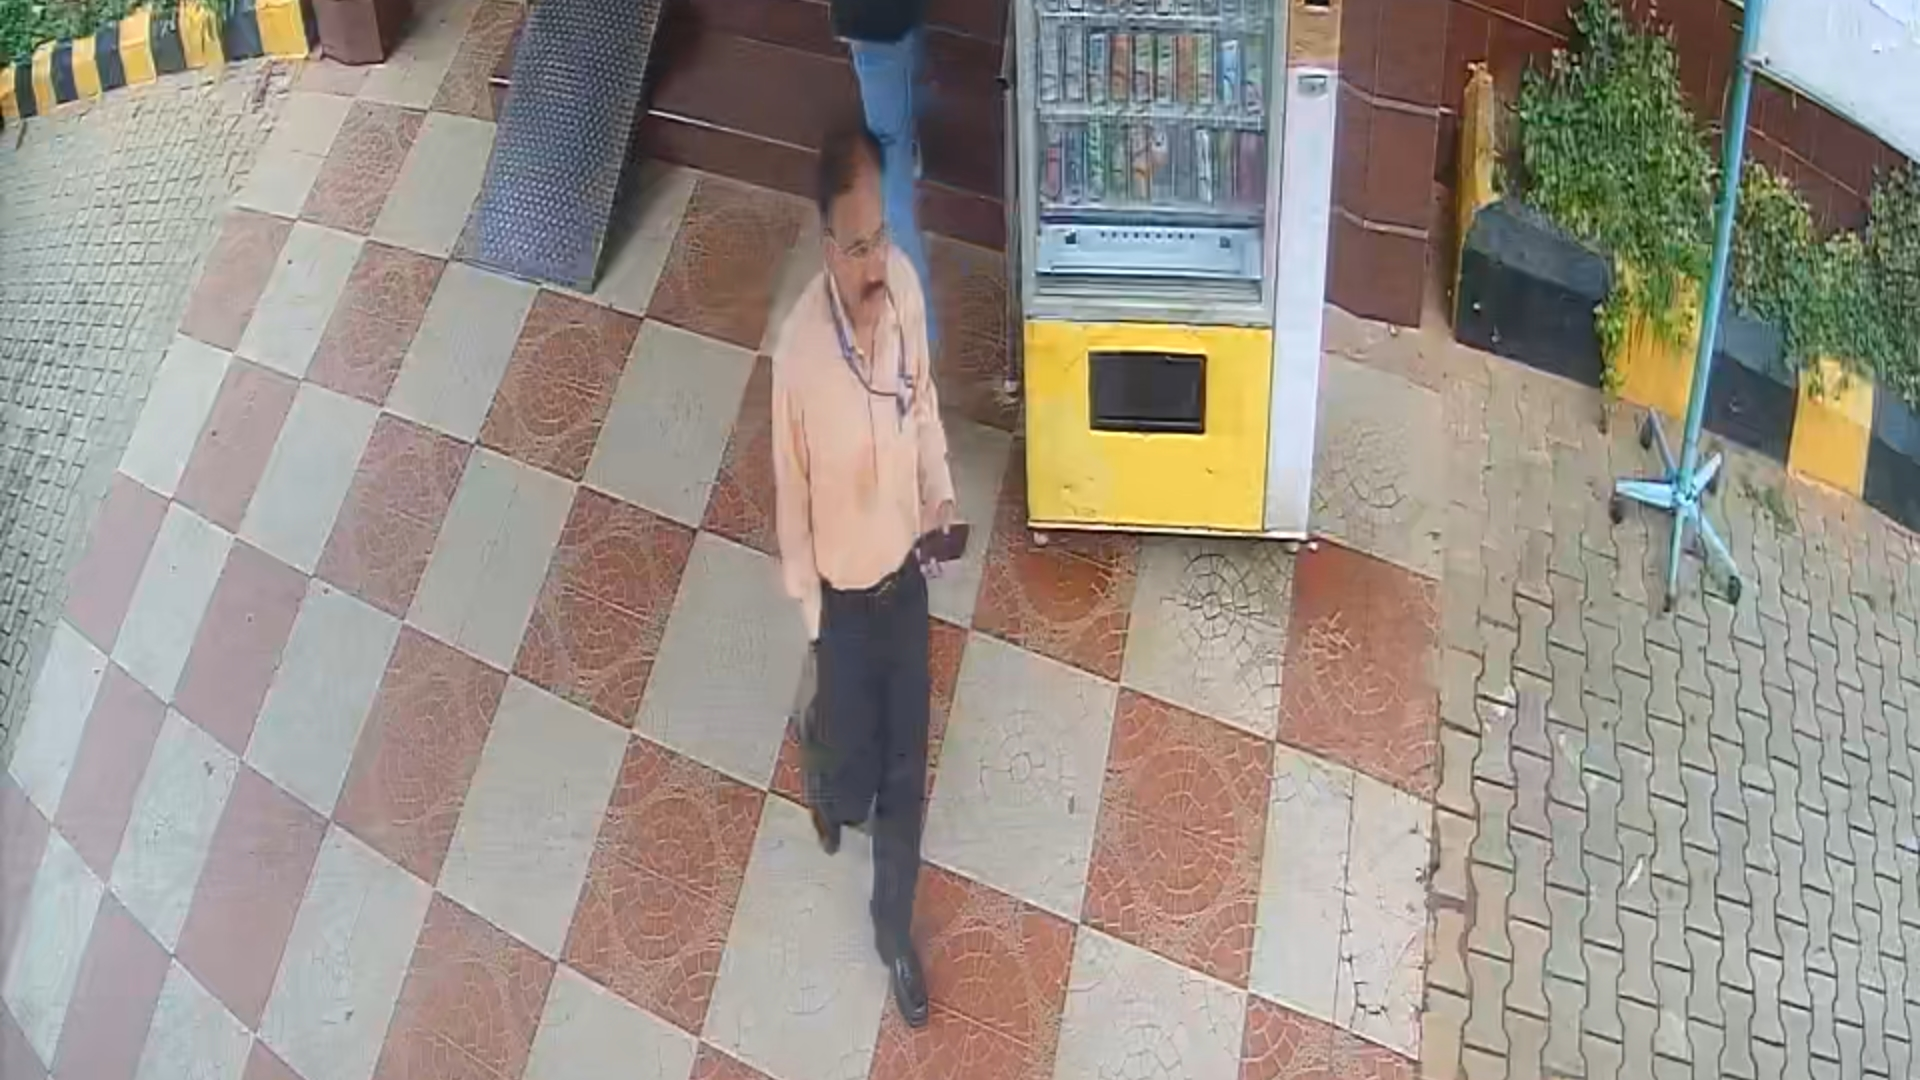not intruder: (725, 123, 1000, 1027)
